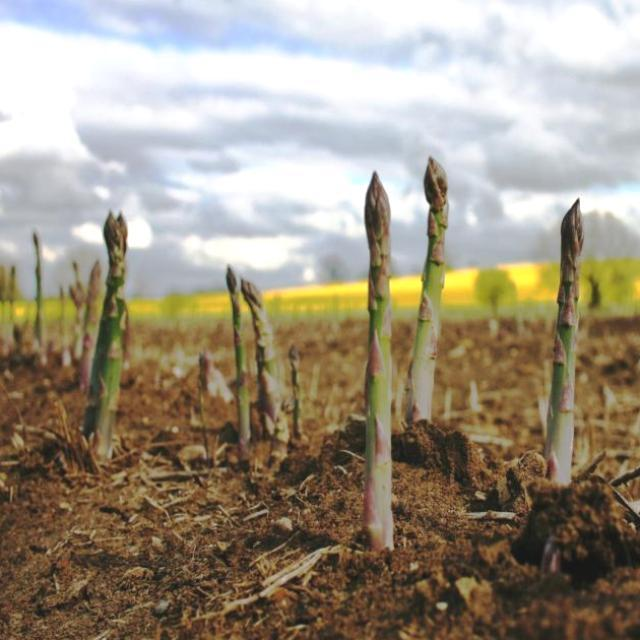aspargus: (81, 214, 130, 460), (363, 175, 394, 556), (545, 200, 581, 489), (412, 159, 449, 422), (241, 281, 294, 443)
